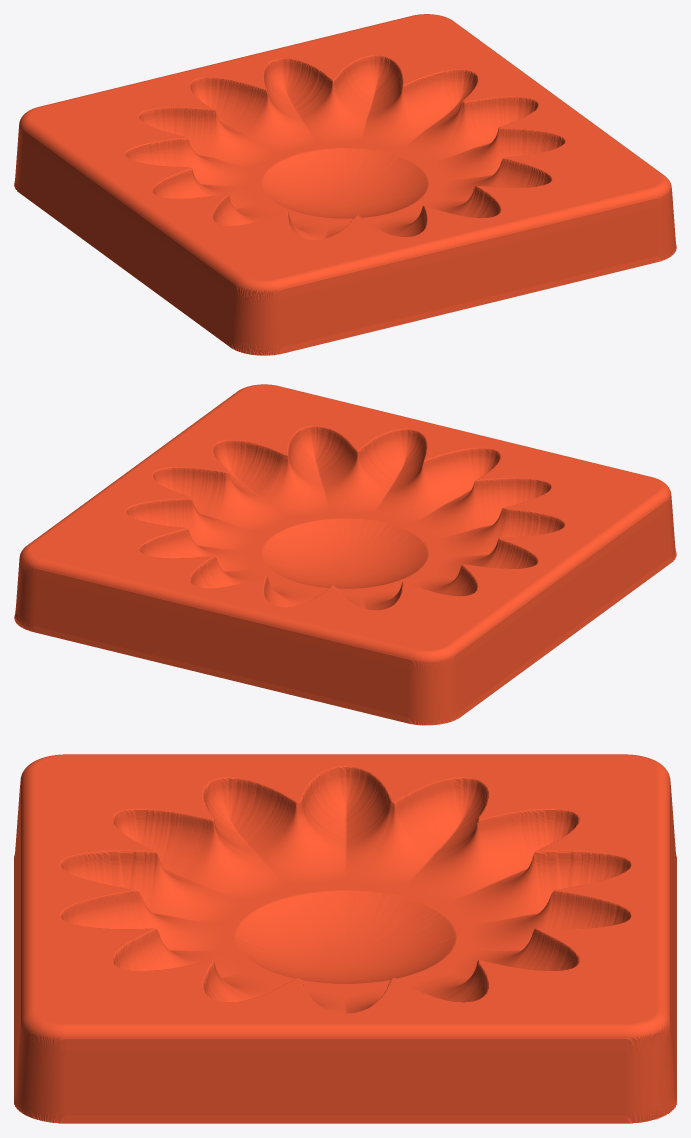
Rendered from mold.glb.
3 views of the same model, one above another, from view 1: azimuth 30°, elevation 25°; view 2: azimuth 150°, elevation 25°; view 3: azimuth 270°, elevation 25° (orthographic). The views are drawn at different scales.
Parts seen in each view (by area): view 1: geometry_0; view 2: geometry_0; view 3: geometry_0.
Boxes of the visible parts, x1,y1,x2,y2 form: geometry_0: (14,14,676,355); geometry_0: (14,384,676,725); geometry_0: (14,754,676,1123).
Bounding box in the file's own units: 0.1178 × 0.0175 × 0.1156.
